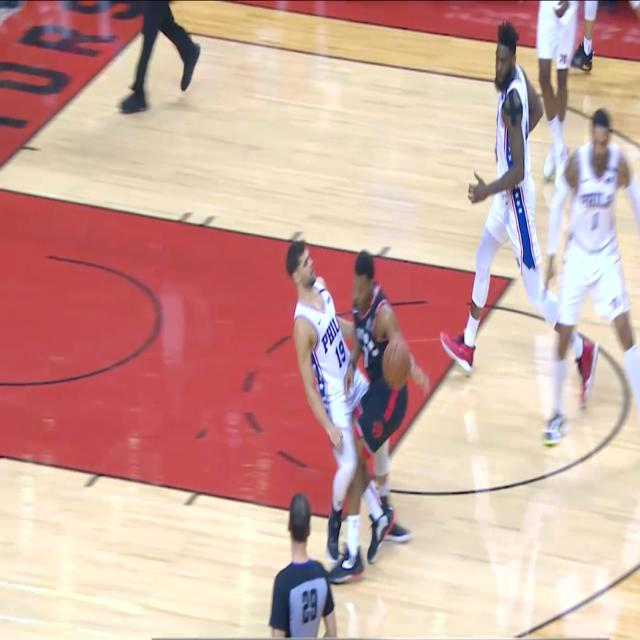Foul: (299, 260, 399, 408)
